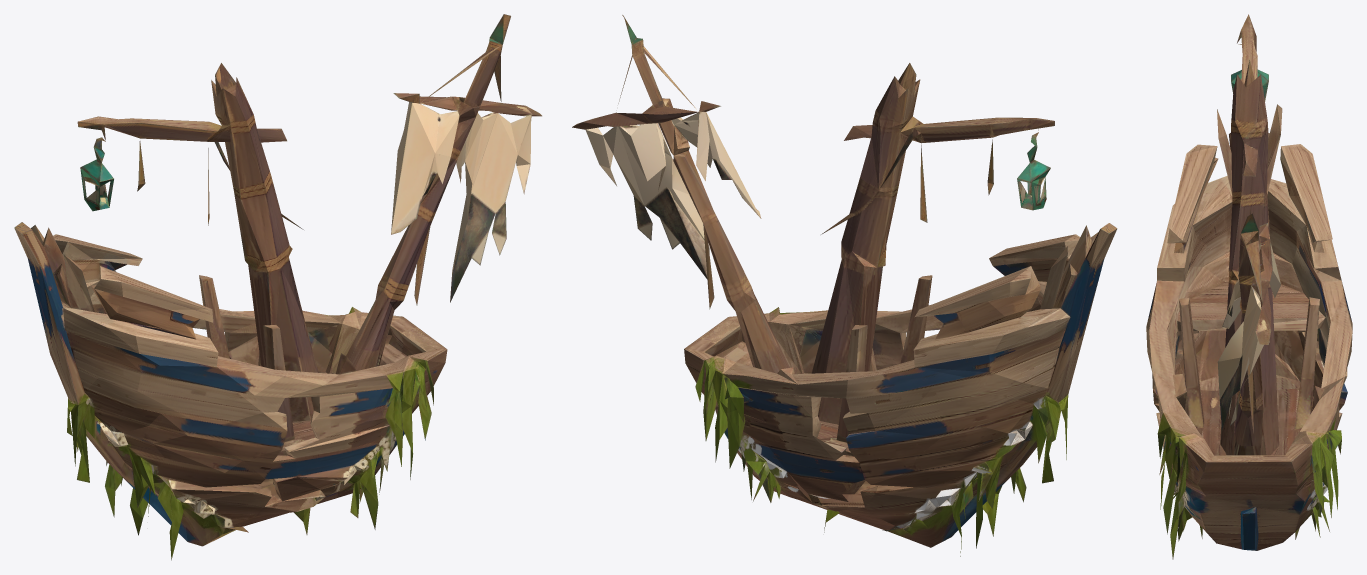
File: wreck.glb
The picture shows the model from 3 angles, left to right: view 1: azimuth 30°, elevation 25°; view 2: azimuth 150°, elevation 25°; view 3: azimuth 270°, elevation 25°; orthographic projection. The views are drawn at different scales.
Size of the model in its own units: 1.89 by 1.63 by 0.663.
1 material, 1 textured.
